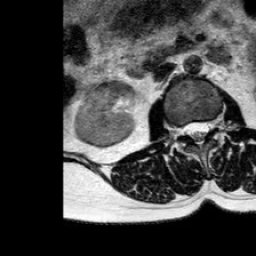CCS_normal: (193, 108, 201, 155)
LFS_normal: (210, 109, 218, 138)
LLS_normal: (201, 109, 210, 145)
RFS_normal: (176, 113, 184, 143)
RLS_normal: (184, 113, 193, 143)
